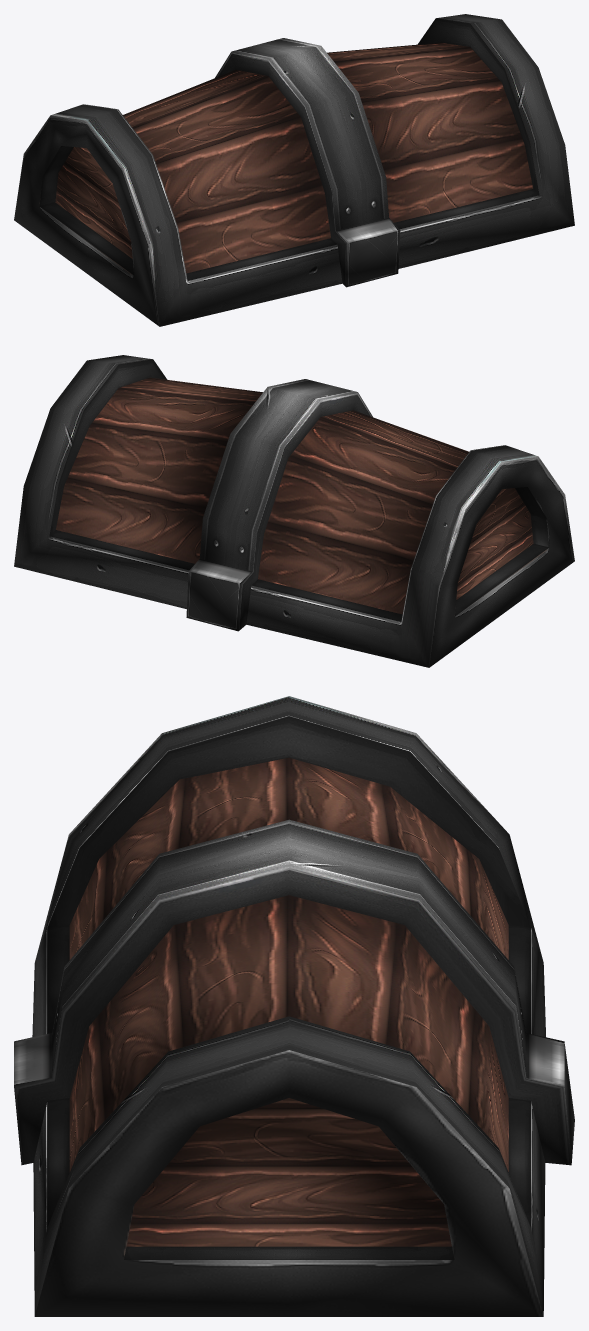
Rendered from woodtop.fbx.
The picture shows the model from 3 angles, top to bottom: view 1: azimuth 30°, elevation 25°; view 2: azimuth 150°, elevation 25°; view 3: azimuth 270°, elevation 25°; orthographic projection. The views are drawn at different scales.
Visible parts, largest first — view 1: Mesh; view 2: Mesh; view 3: Mesh.
Boxes of the visible parts, bbox=[...] form: Mesh: bbox=[14, 14, 574, 326]; Mesh: bbox=[14, 355, 574, 667]; Mesh: bbox=[14, 696, 574, 1316].
Bounding box in the file's own units: 12.17 × 4.82 × 8.15.
